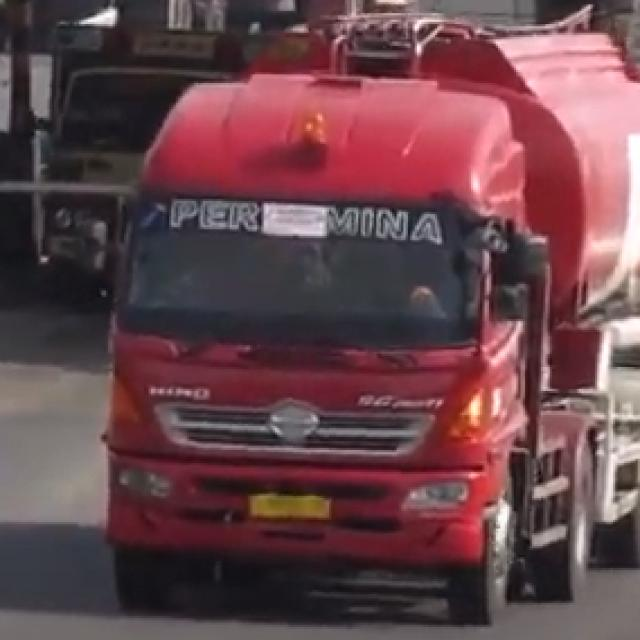truck: (91, 1, 640, 626)
